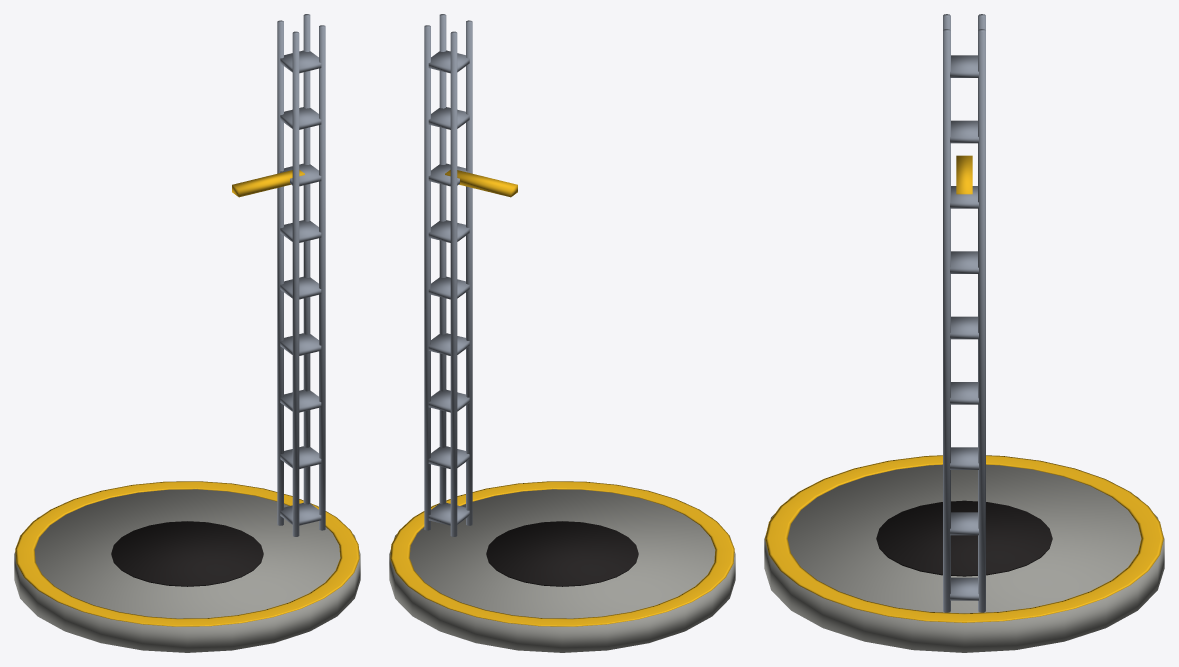
File: launch_pad.glb
3 views of the same model, side by side, from view 1: azimuth 30°, elevation 25°; view 2: azimuth 150°, elevation 25°; view 3: azimuth 270°, elevation 25° (orthographic). The views are drawn at different scales.
Visible parts, largest first — view 1: LaunchPad; view 2: LaunchPad; view 3: LaunchPad.
Boxes of the visible parts, x1,y1,x2,y2 form: LaunchPad: (14, 14, 360, 652); LaunchPad: (389, 14, 735, 652); LaunchPad: (764, 14, 1164, 652).
Bounding box in the file's own units: 5 × 8.4 × 5.
